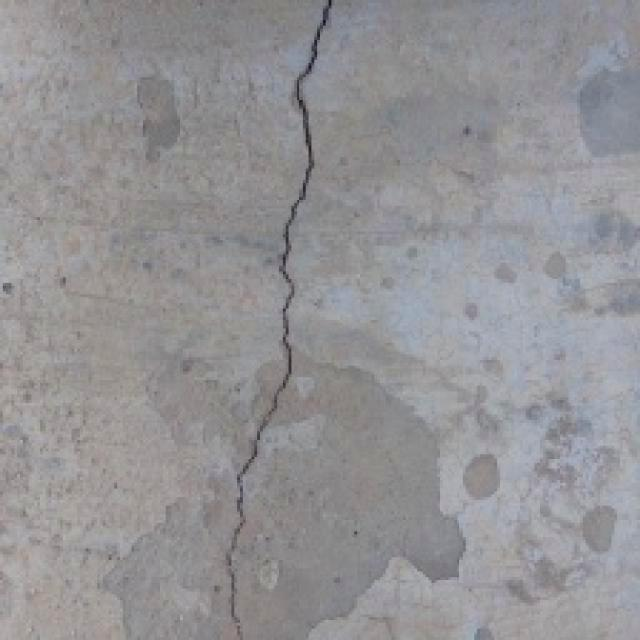SurfaceCrack: (212, 0, 362, 640)
